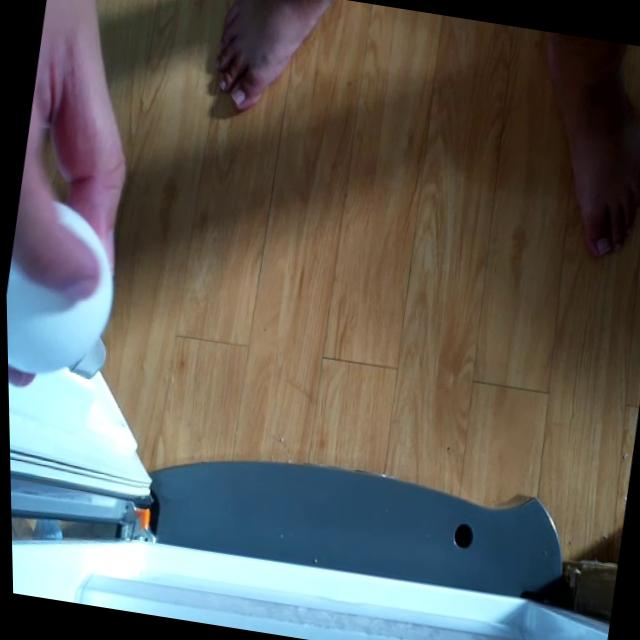egg: (4, 207, 121, 378)
